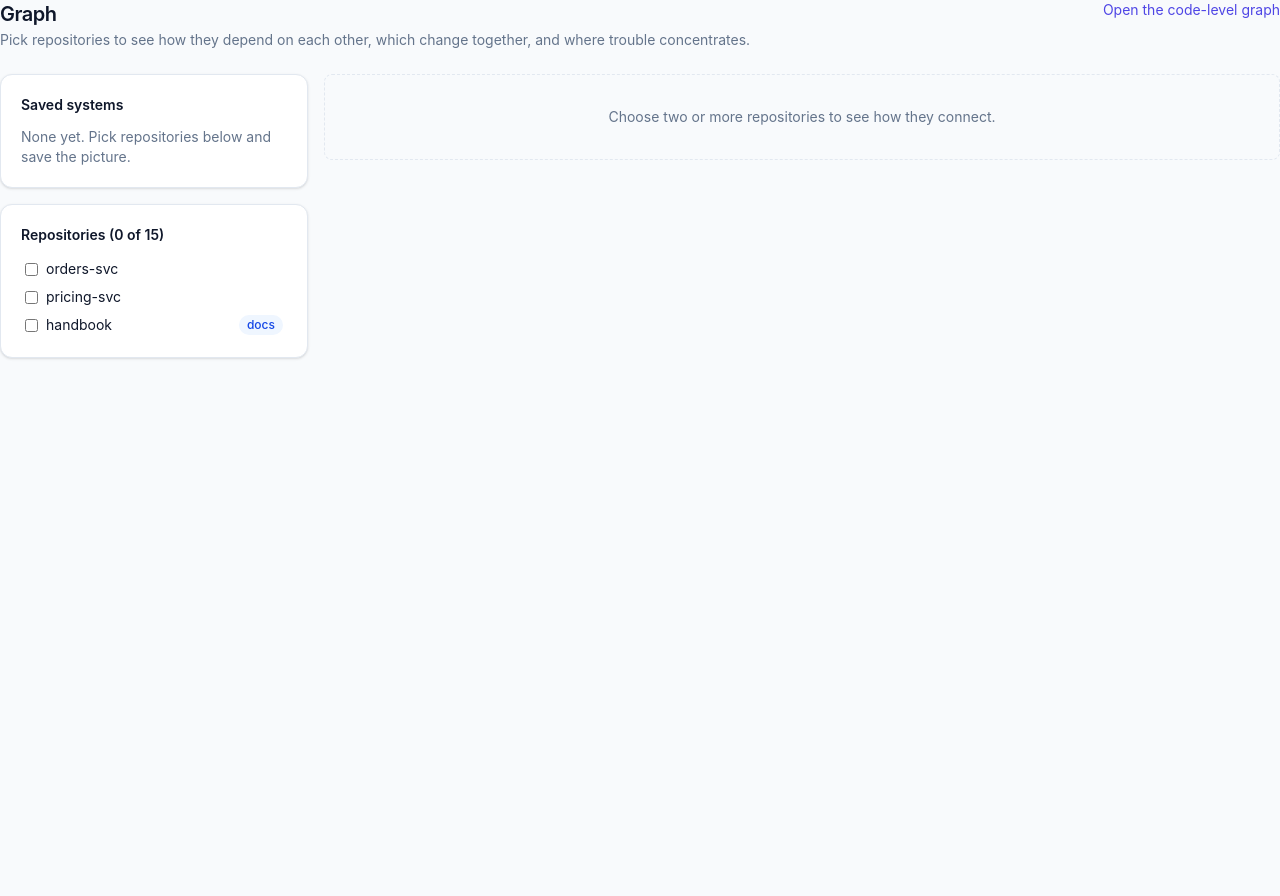
Test case: Graph: systems › says the answer is plain passages when no model is configured, and says when the model failed
Click the checkbox labelled "orders-svc" at {"x": 32, "y": 269}, box [25,262,38,276]
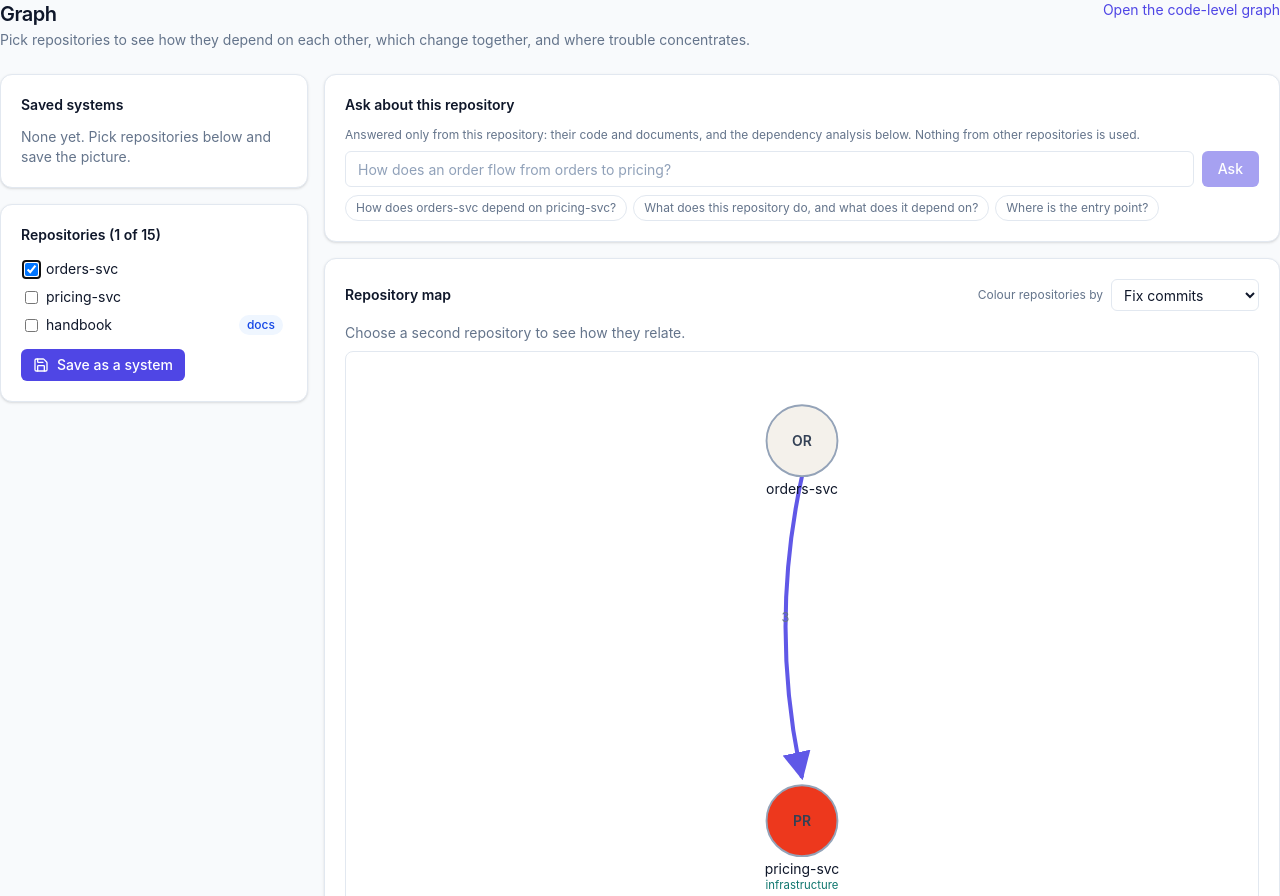
Click the checkbox labelled "pricing-svc" at {"x": 32, "y": 297}, box [25,290,38,304]
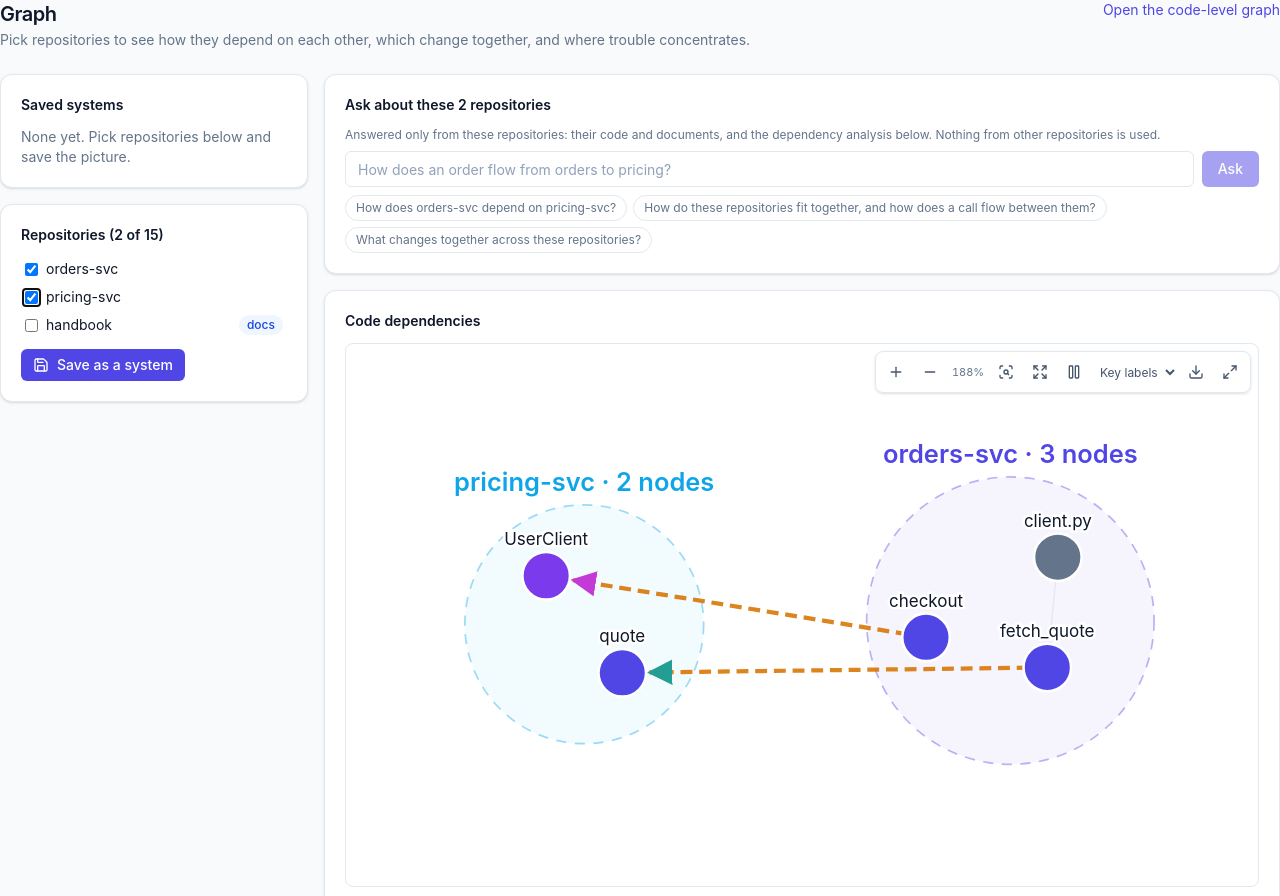
Click the button "fit together" at {"x": 870, "y": 208}, box [633,195,1107,221]
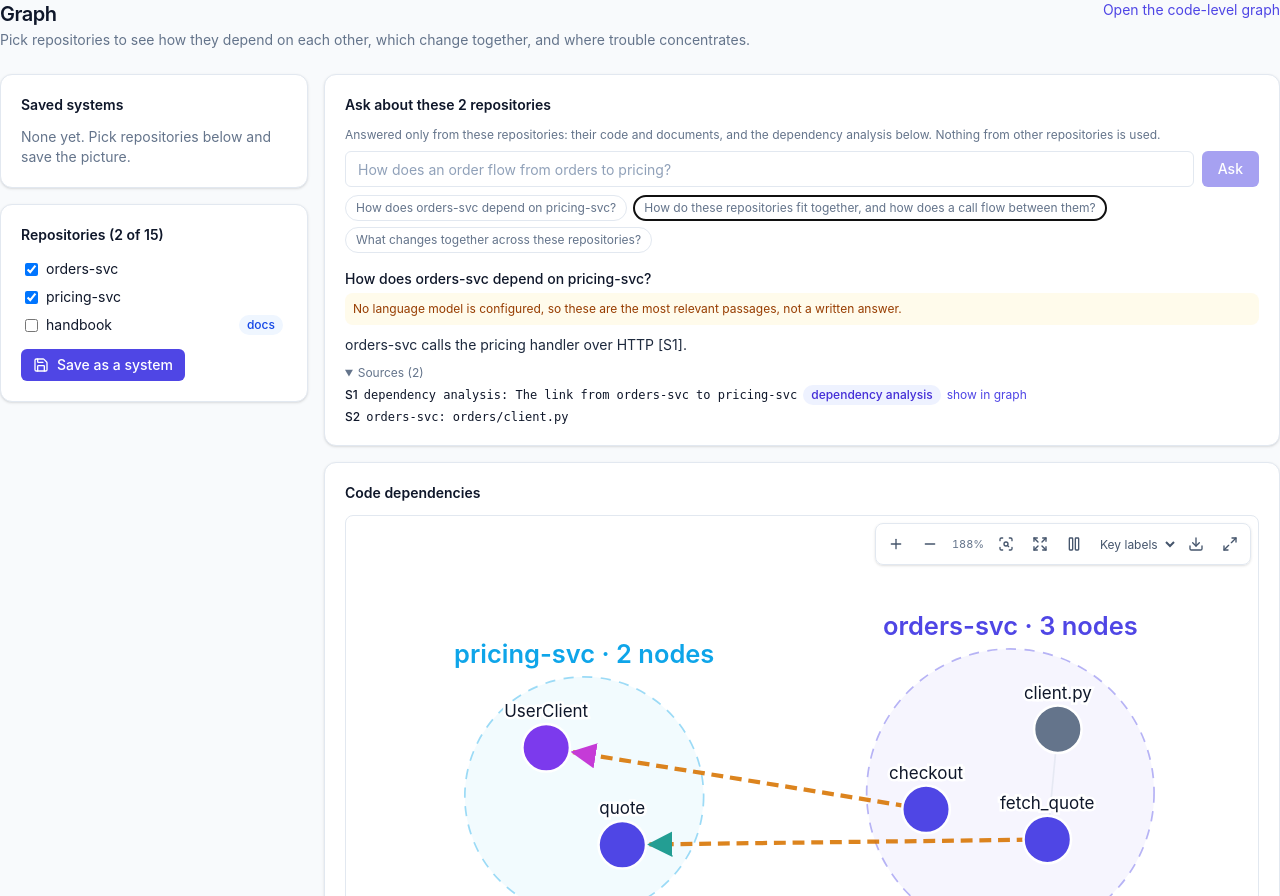
Check: the text "No language model is configured" is shown, box [353,301,902,316]
